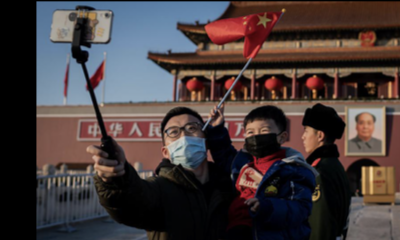with_mask: (165, 119, 207, 168), (244, 124, 279, 156)
without_mask: (302, 126, 317, 152)
